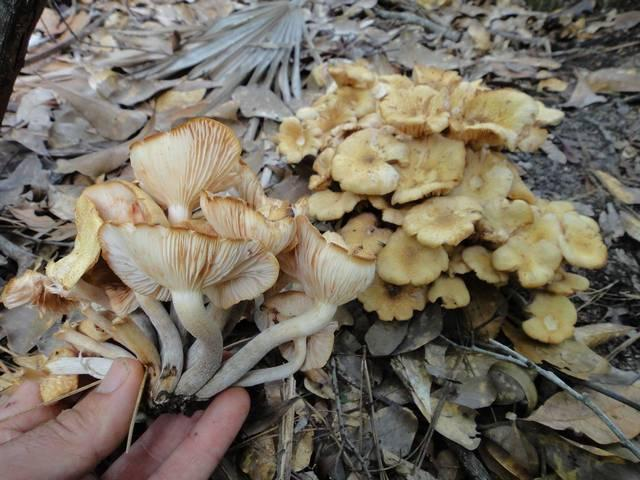edible_mushroom: (46, 115, 376, 406), (286, 57, 603, 343)
